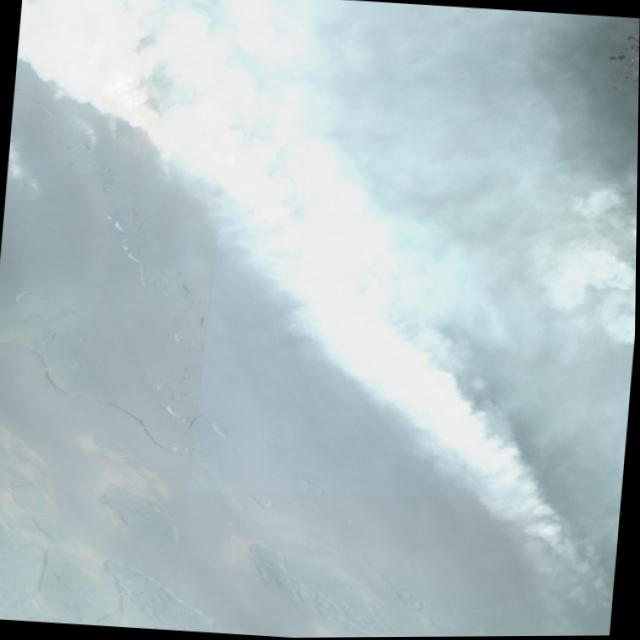fire: (0, 100, 639, 610)
